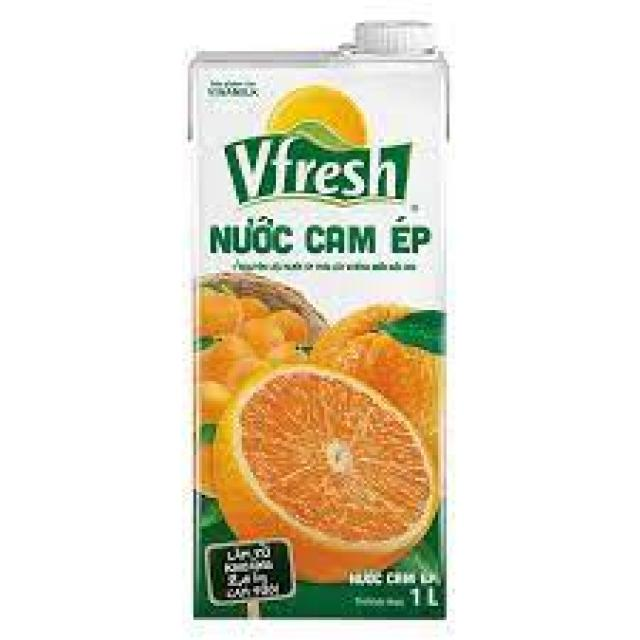non_white_jug: (36, 96, 415, 640)
